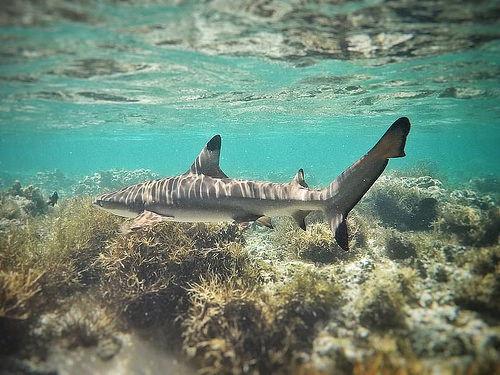shark: (85, 96, 423, 263)
